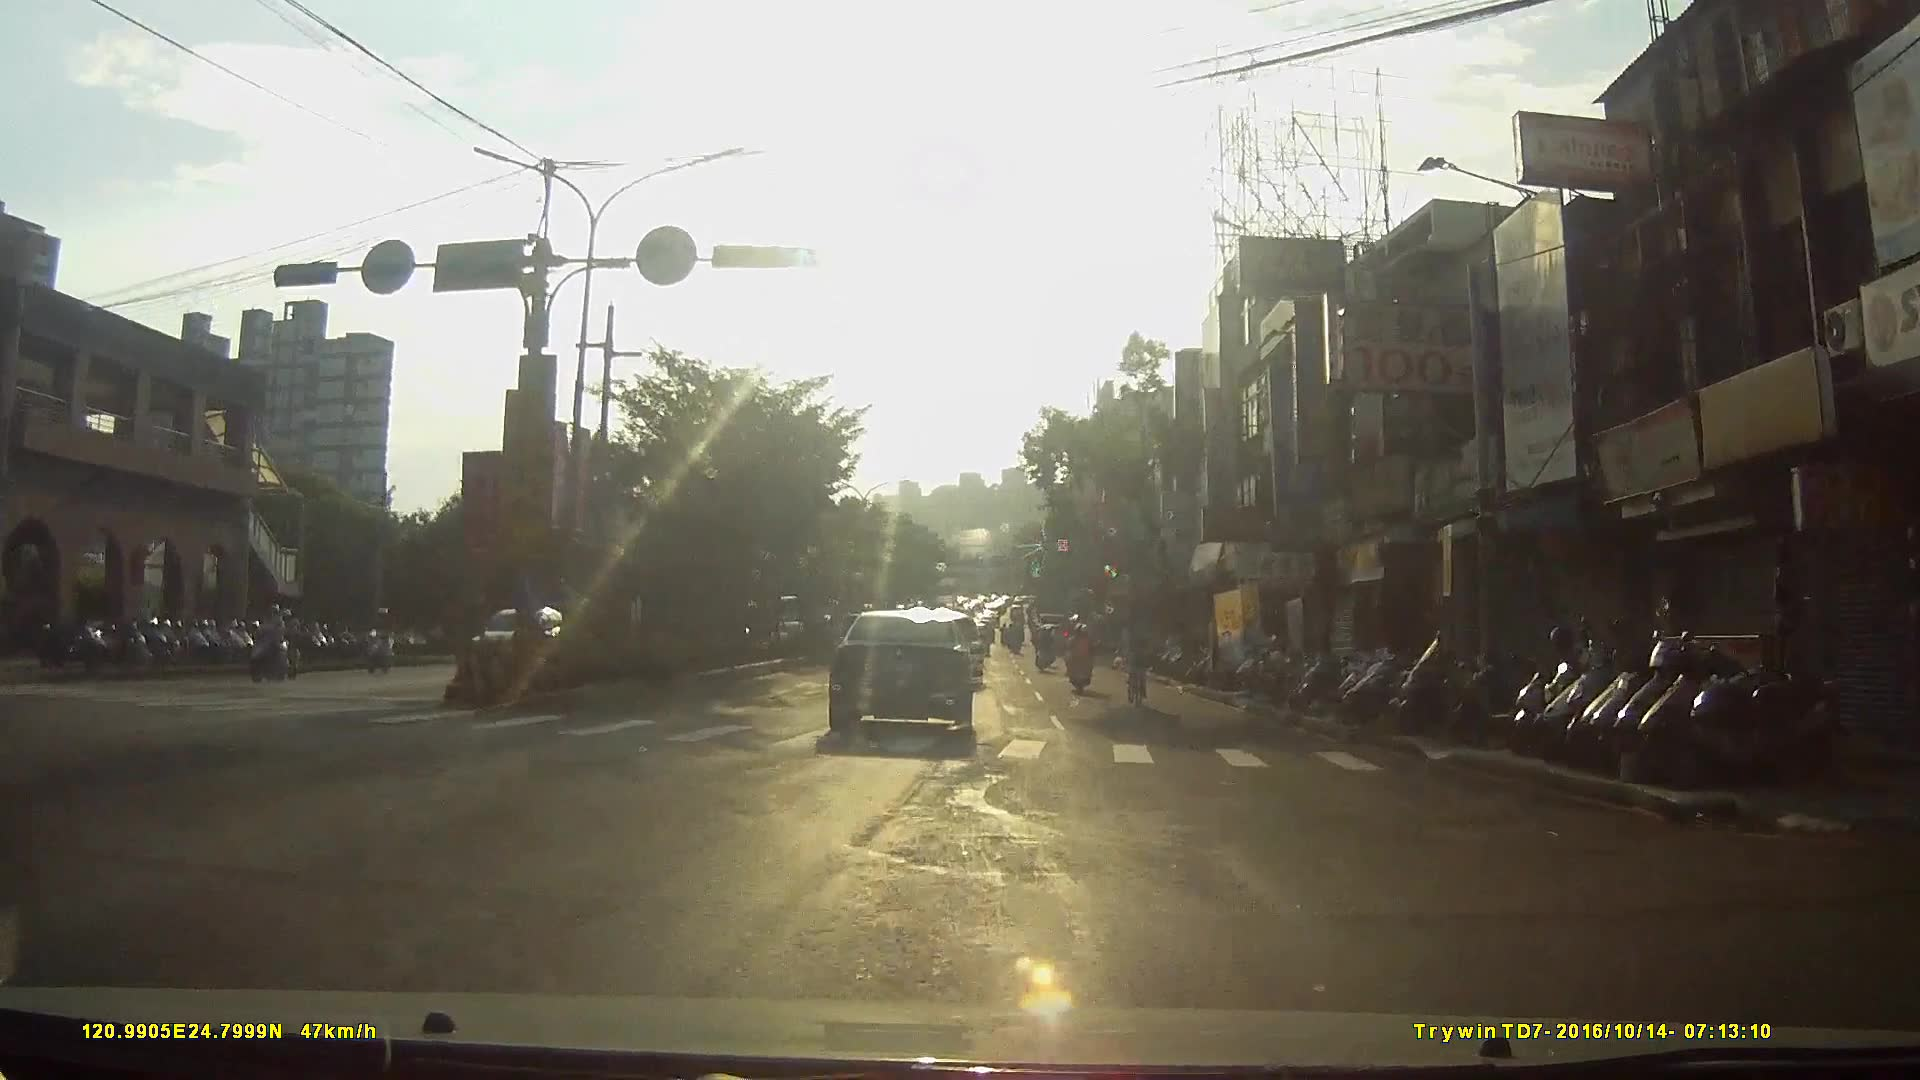rider: (248, 609, 298, 688), (1119, 622, 1155, 717), (368, 605, 399, 674), (1069, 626, 1096, 698), (1032, 624, 1058, 679)
vehicle: (833, 609, 990, 753)
